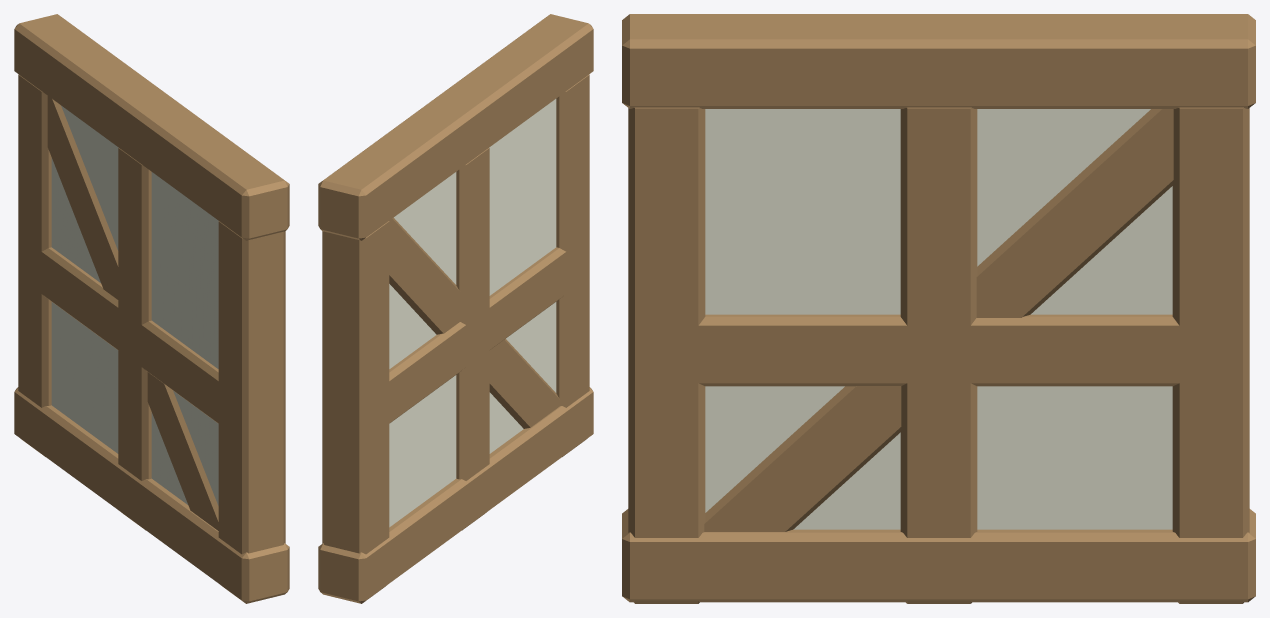
File: BaseWall_2.fbx
3 views of the same model, side by side, from view 1: azimuth 30°, elevation 25°; view 2: azimuth 150°, elevation 25°; view 3: azimuth 270°, elevation 25° (orthographic). The views are drawn at different scales.
Visible parts, largest first — view 1: BaseWall_2; view 2: BaseWall_2; view 3: BaseWall_2.
Part boxes in pixels (box(x1,y1,x2,y2)): BaseWall_2: box(14, 14, 289, 603); BaseWall_2: box(318, 14, 593, 603); BaseWall_2: box(622, 14, 1255, 603).
Bounding box in the file's own units: 0.2753 × 2.29 × 2.33.
